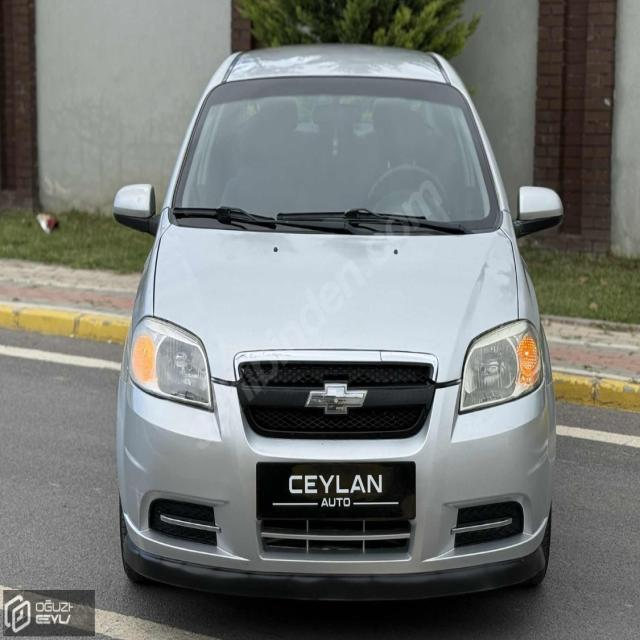chevrolet: (304, 376, 369, 421)
